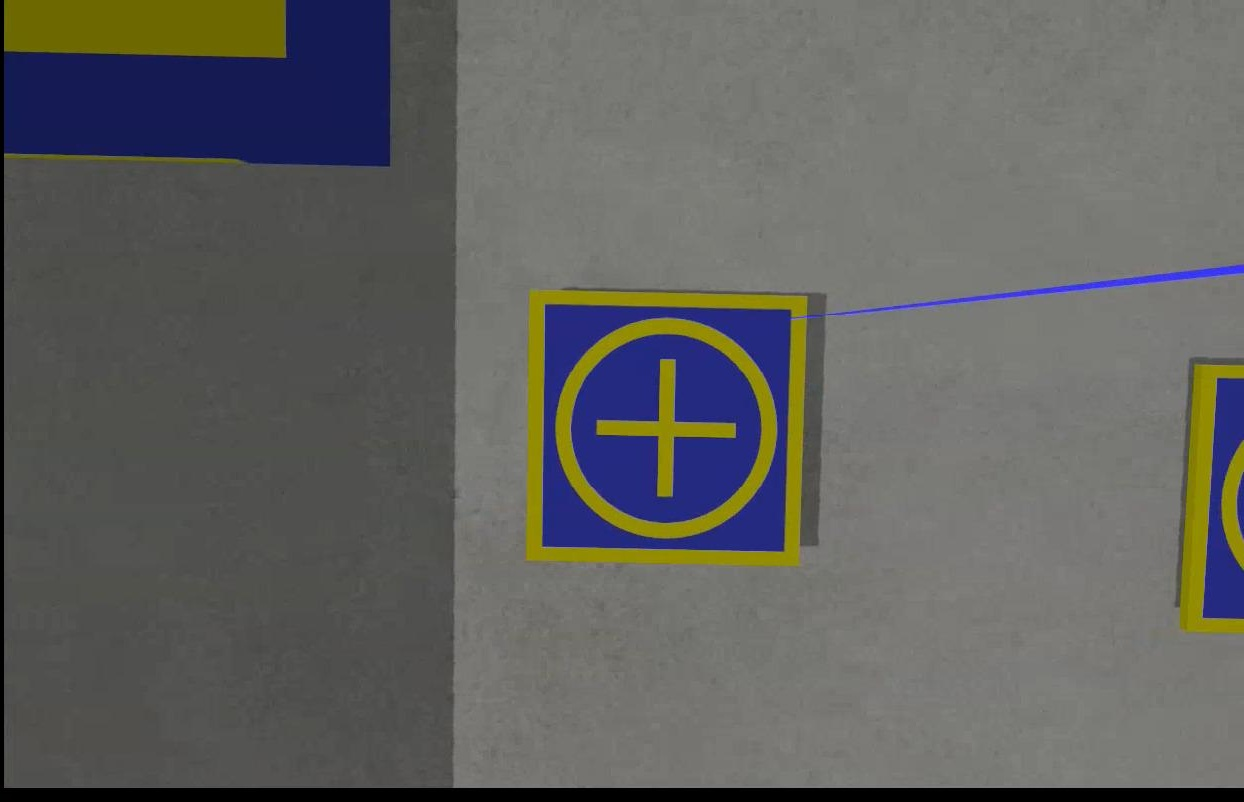large_base: (1, 1, 393, 161)
small_base: (519, 286, 811, 572), (1177, 358, 1242, 644)
